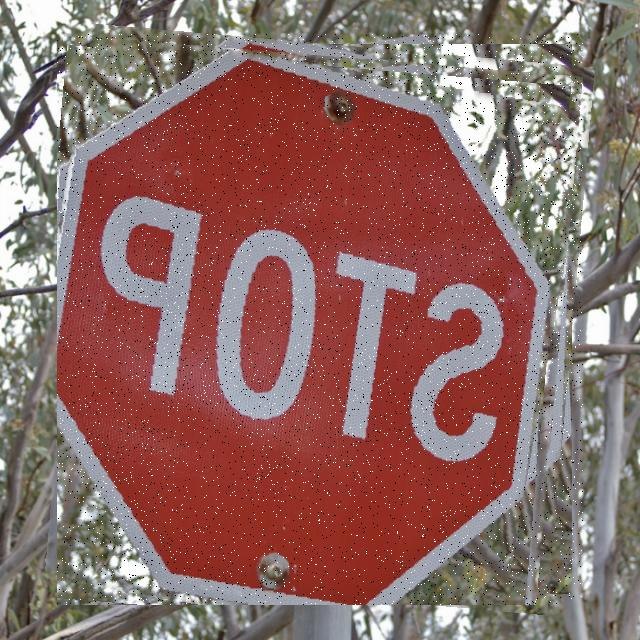stop: (57, 34, 583, 605)
